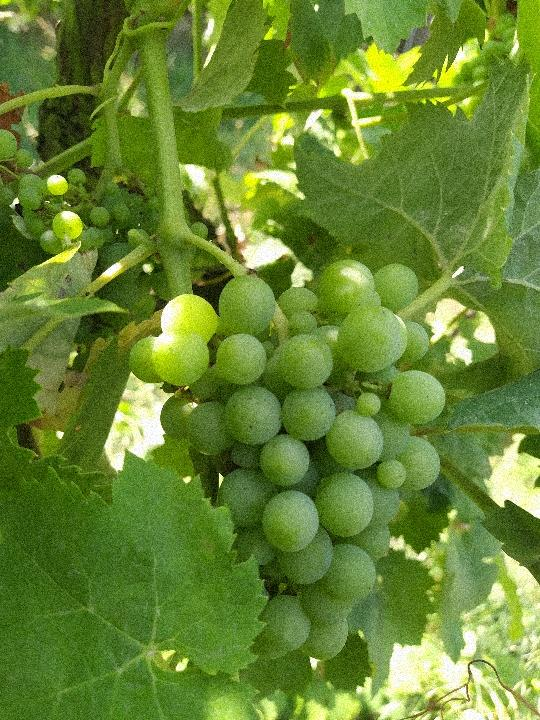grape: (125, 257, 447, 665)
